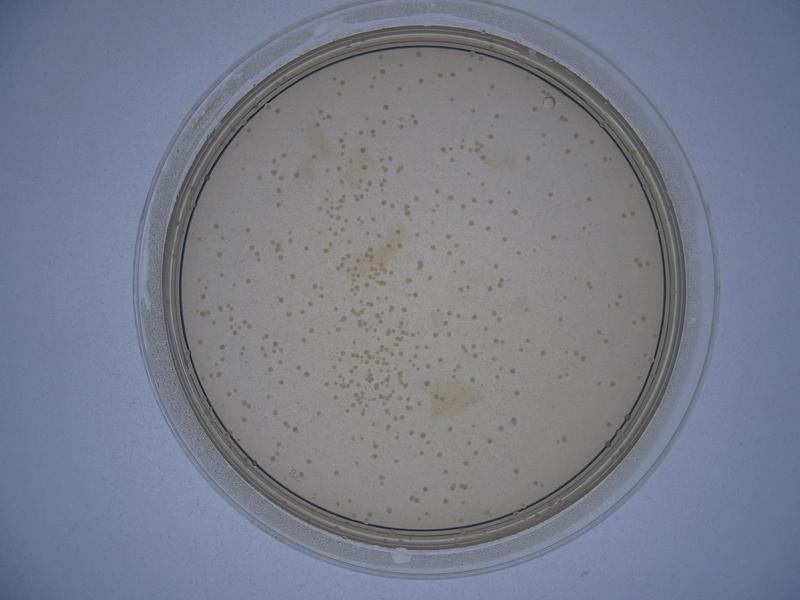colony: (521, 151, 535, 164), (212, 248, 226, 261), (313, 408, 325, 420), (512, 387, 524, 398), (546, 233, 558, 244), (583, 192, 594, 204), (291, 169, 301, 182), (242, 224, 253, 235), (545, 189, 556, 200), (484, 437, 496, 447), (500, 232, 509, 245), (270, 200, 283, 209), (383, 101, 393, 112), (538, 347, 548, 357), (556, 313, 565, 324), (286, 272, 298, 280), (303, 455, 311, 466), (432, 184, 440, 195), (424, 273, 433, 282), (245, 276, 251, 287)
